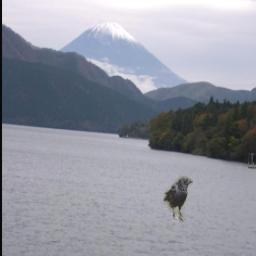Crow: (165, 177, 194, 223)
